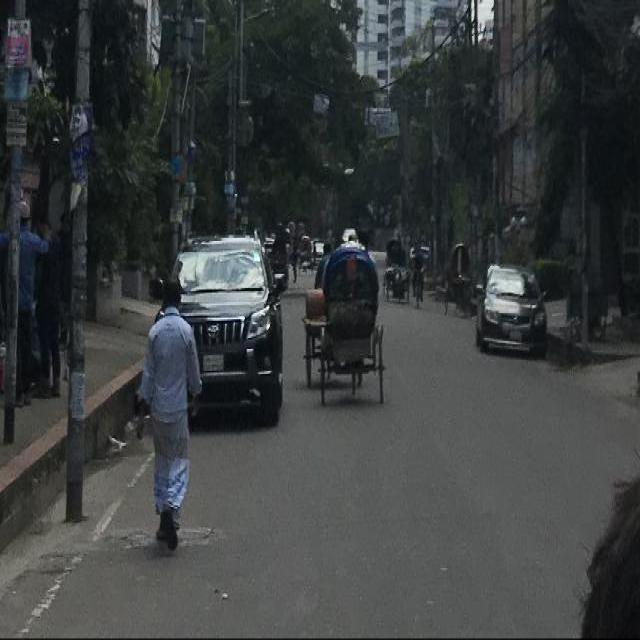13: (317, 246, 388, 407), (443, 240, 472, 316), (299, 236, 313, 272)
15: (168, 240, 284, 419)
5: (474, 265, 548, 347)
Motorcycle: (412, 245, 424, 307)
